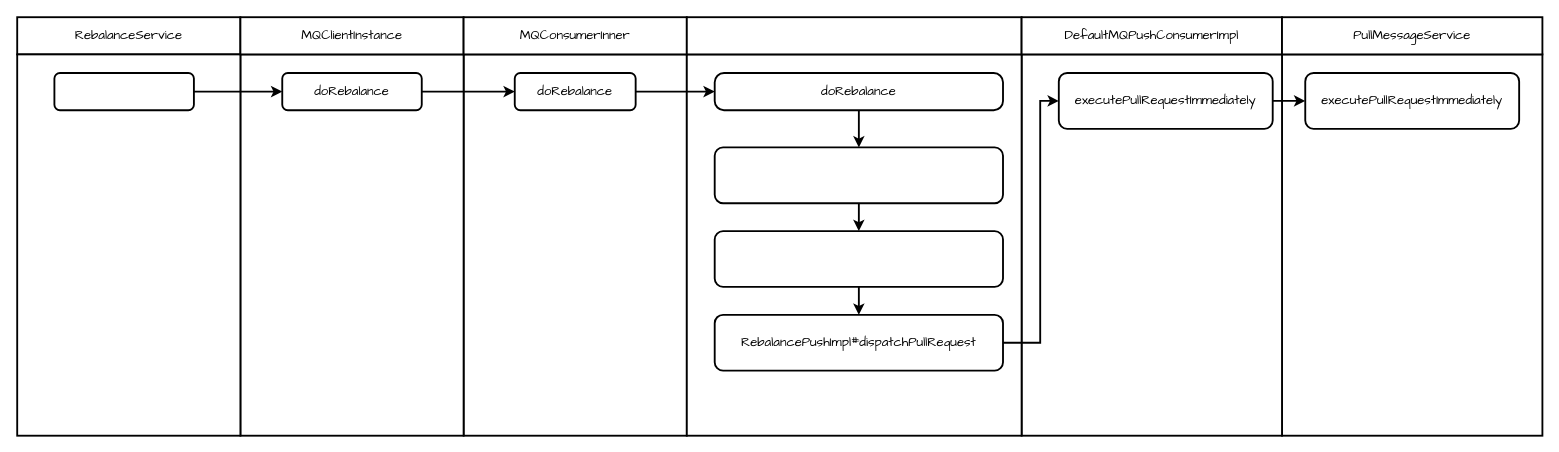
This 1559x452 diagram has some shape labels left out. Here are the shapes that lost their labels. From the top down, the box of each, then its label:
(685, 16, 1022, 55): RebalanceImpl
(53, 72, 194, 111): run
(713, 146, 1003, 204): rebalanceByTopic
(713, 230, 1003, 287): updateProcessQueueTableInRebalance
